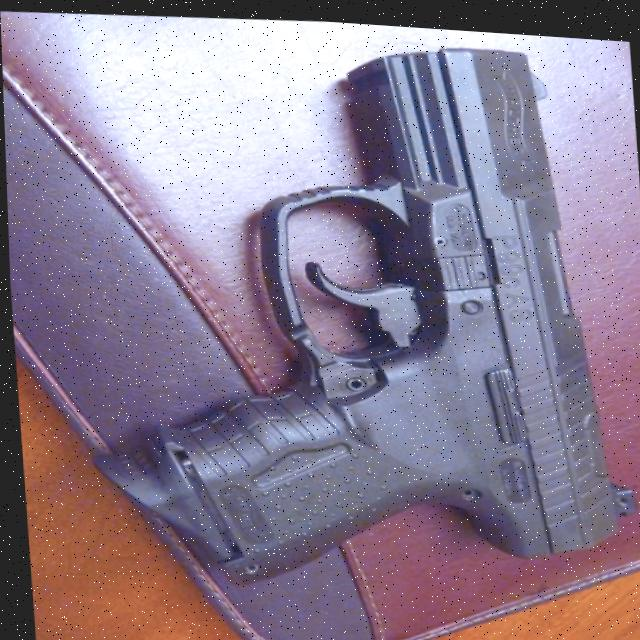pistol: (49, 12, 640, 615)
